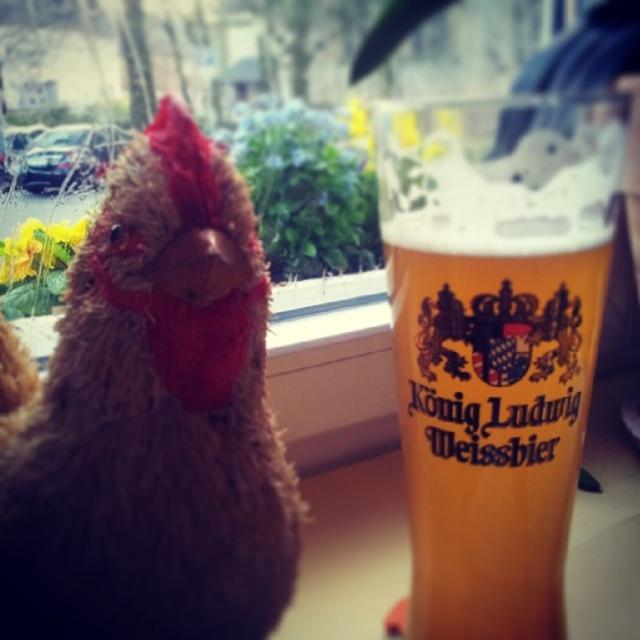Chicken: (48, 88, 306, 586)
